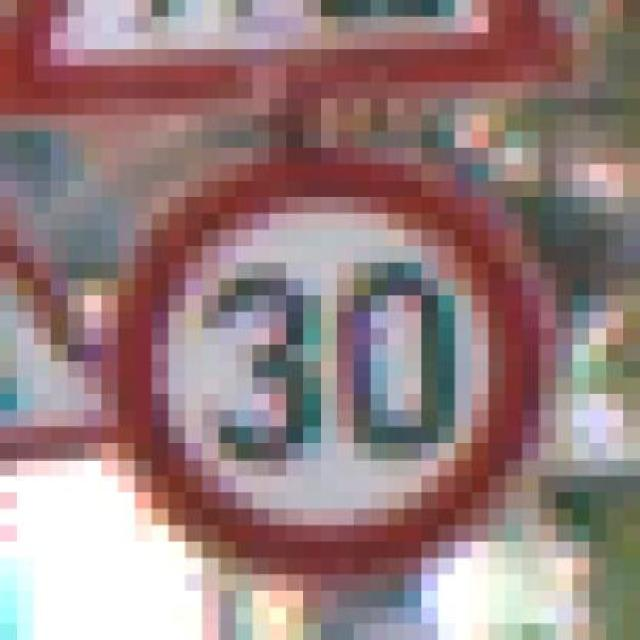Speed Limit 30 KMPh: (67, 130, 590, 608)
